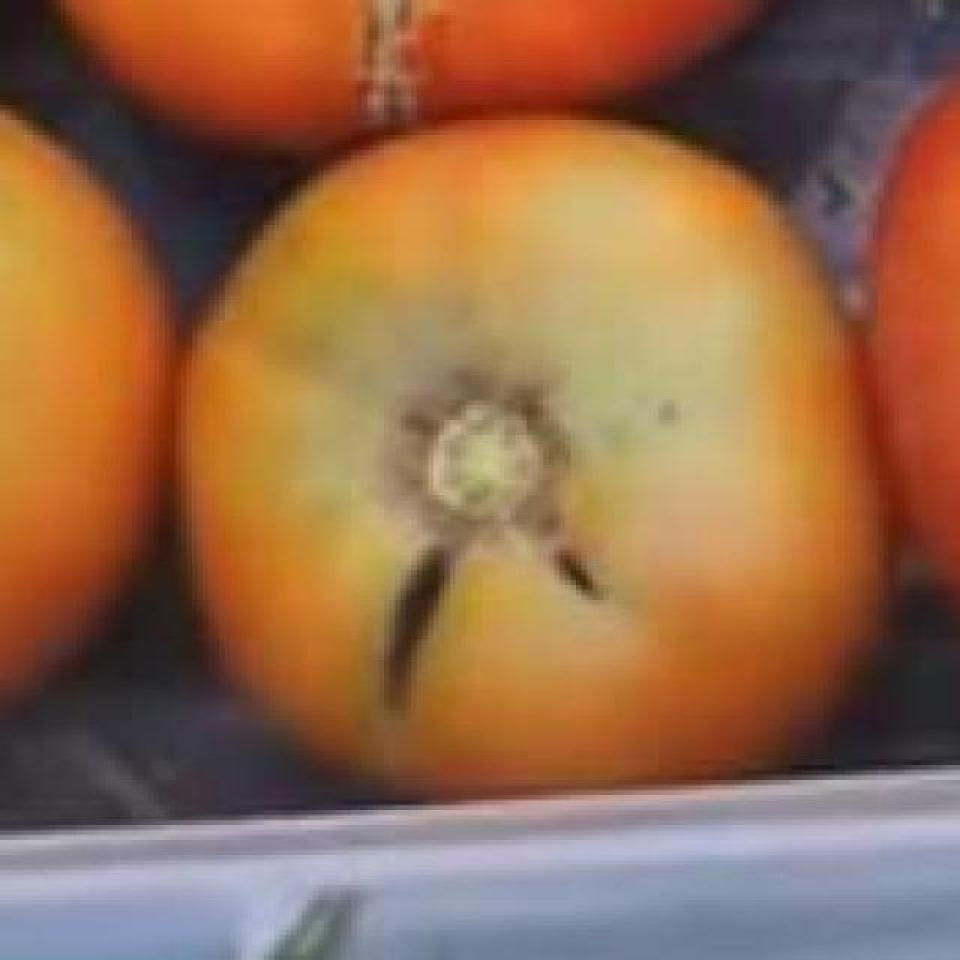Sunscald: (340, 512, 499, 748), (334, 0, 428, 110), (507, 505, 600, 605)
